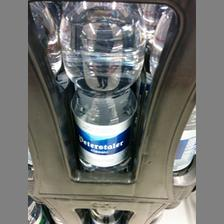Wasser: (56, 1, 144, 172)
